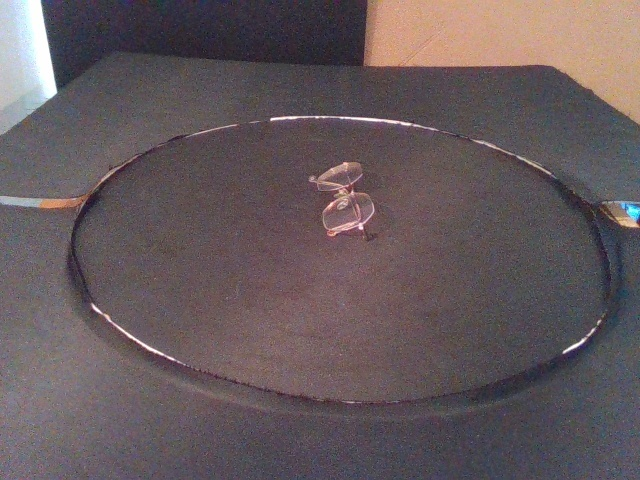glasses: (307, 160, 376, 242)
